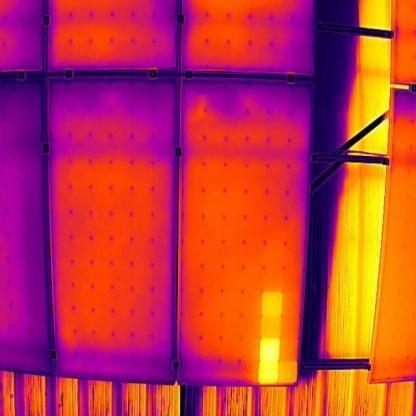anomaly: (253, 286, 304, 388)
